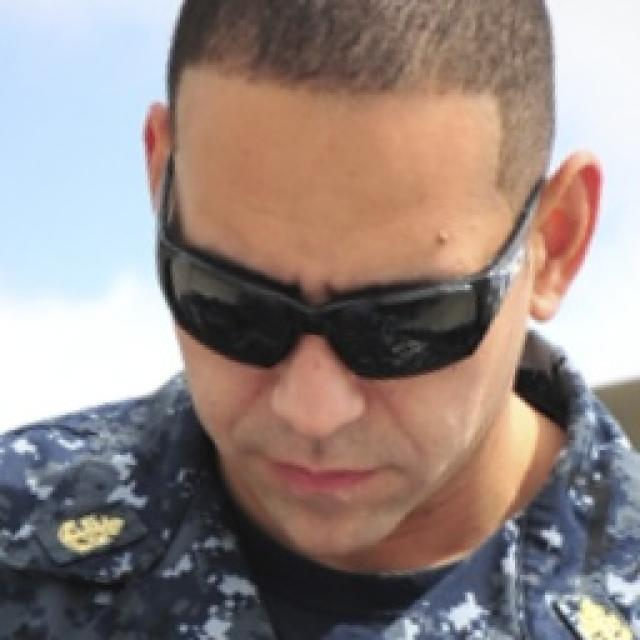glasses: (151, 207, 512, 386)
